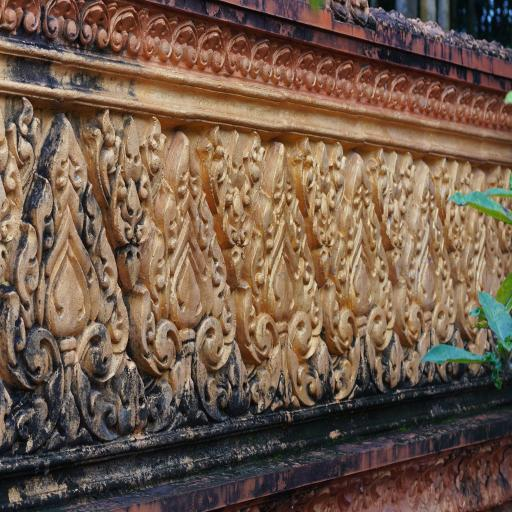la: (81, 0, 115, 57), (44, 0, 81, 51), (110, 6, 142, 57), (0, 0, 41, 38), (144, 9, 172, 63), (172, 16, 198, 69), (225, 30, 253, 79), (197, 24, 224, 70), (249, 35, 272, 86), (274, 40, 295, 86), (337, 57, 358, 102), (296, 45, 316, 90), (408, 74, 428, 118), (355, 62, 374, 105), (317, 52, 335, 94), (375, 67, 392, 108), (392, 71, 409, 111), (456, 86, 472, 127), (428, 81, 444, 117), (472, 92, 488, 127), (486, 93, 500, 129), (442, 86, 457, 118), (499, 96, 512, 131)
lua: (0, 114, 138, 460), (130, 113, 253, 432), (229, 135, 330, 412), (324, 129, 409, 402), (394, 151, 465, 386), (83, 102, 168, 248), (192, 117, 265, 260), (462, 158, 510, 373), (288, 130, 346, 287), (0, 95, 41, 300), (370, 141, 418, 276), (432, 148, 476, 266)
